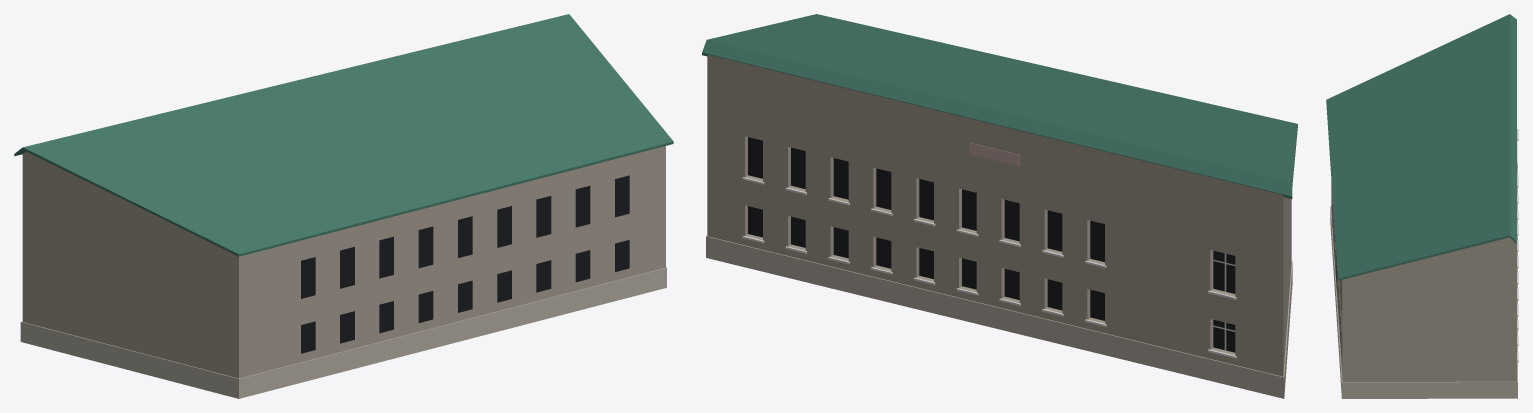
Rendered from SM_Pozemskogo_6A.glb.
3 views of the same model, side by side, from view 1: azimuth 30°, elevation 25°; view 2: azimuth 150°, elevation 25°; view 3: azimuth 270°, elevation 25° (orthographic). The views are drawn at different scales.
Visible parts, largest first — view 1: SM_Pozemskogo_6A; view 2: SM_Pozemskogo_6A; view 3: SM_Pozemskogo_6A.
Part boxes in pixels (<box>): SM_Pozemskogo_6A: <box>14,14,673,398</box>; SM_Pozemskogo_6A: <box>702,14,1297,398</box>; SM_Pozemskogo_6A: <box>1326,14,1518,398</box>.
Size of the model in its own units: 33.17 by 11.43 by 12.08.
